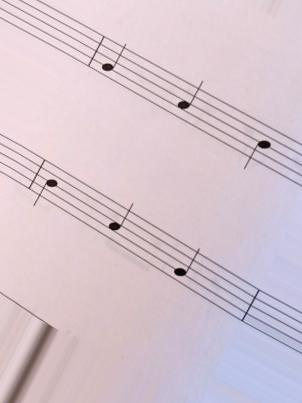A: (105, 189, 135, 263), (174, 67, 205, 138)
B: (241, 109, 273, 178), (29, 146, 60, 215)
G: (98, 28, 129, 96), (172, 231, 201, 302)
